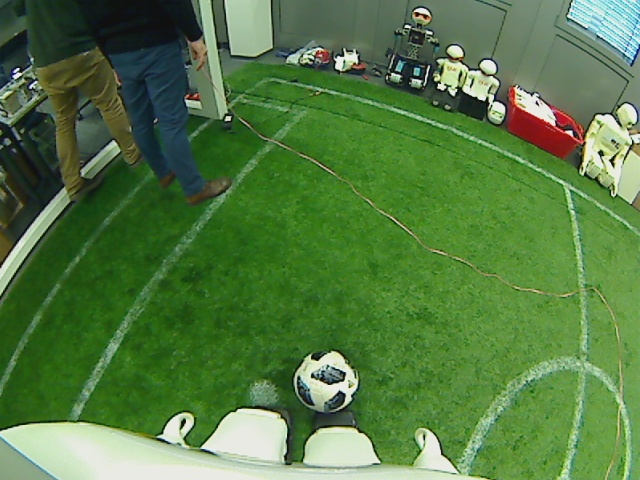ball: (290, 348, 360, 415)
